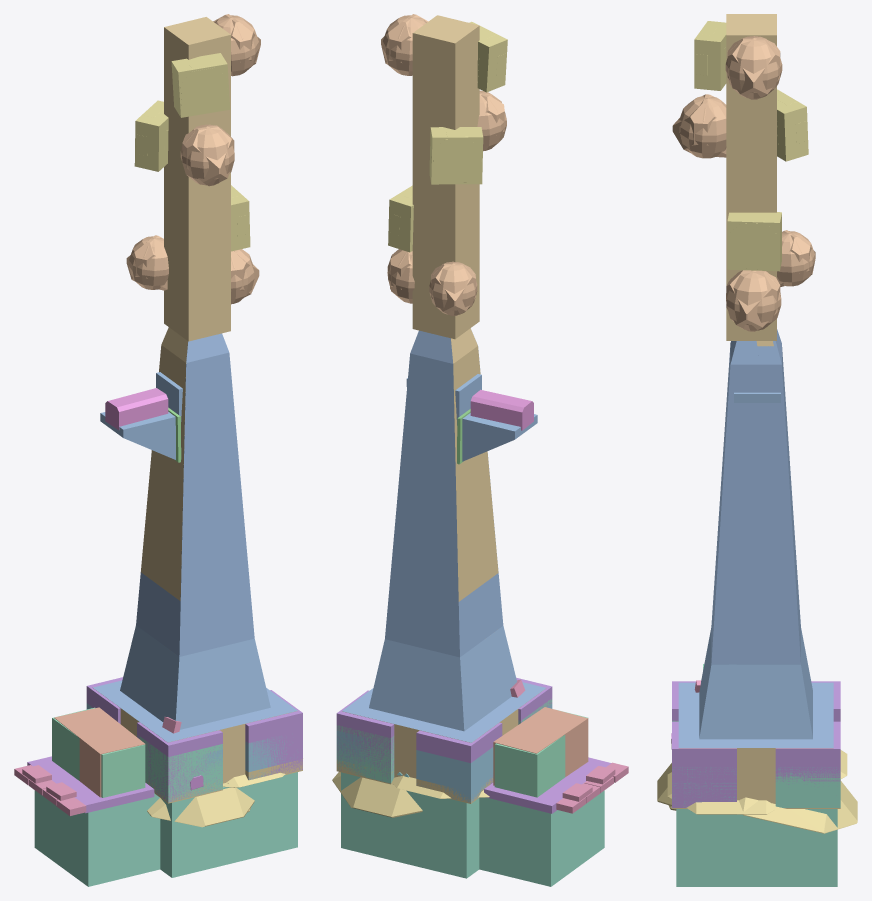
Rendered from hotzonemagnet.glb.
The picture shows the model from 3 angles, left to right: view 1: azimuth 30°, elevation 25°; view 2: azimuth 150°, elevation 25°; view 3: azimuth 270°, elevation 25°; orthographic projection. The views are drawn at different scales.
Visible parts, largest first — view 1: S3|SM_Pylon_4#0, S5|SM_Pylon_5#0, S6|SM_Foundation_HotzoneMagnet#0, S2|SM_Pylon_2#0, S3|SM_HESCO_Stage4_01a#1, S3|SM_CompressorUnit_01a#0, S5|SM_Magnet_Dish#0, S1|SM_TarpBox_03a#0, S3|SM_HESCO_Stage5_01a#0, S4|SM_HESCO_Stage5_01a#3, S5|SM_Satellite_Dish_Residential#0, S2|S_Cement_Rubble_rjgmQ_high#1 (+12 smaller); view 2: S5|SM_Pylon_5#0, S3|SM_Pylon_4#0, S6|SM_Foundation_HotzoneMagnet#0, S2|SM_Pylon_2#0, S1|SM_TarpBox_03a#0, S3|SM_CompressorUnit_01a#0, S5|SM_Magnet_Dish#2, S2|SM_HESCO_Stage3_01a#2, S3|SM_HESCO_Stage4_01a#0, S2|S_Cement_Rubble_rjgmQ_high#0, S4|SM_HESCO_Stage5_01a#1, S5|SM_Satellite_Dish_Residential#3 (+14 smaller); view 3: S3|SM_Pylon_4#0, S6|SM_Foundation_HotzoneMagnet#0, S5|SM_Pylon_5#0, S2|SM_Pylon_2#0, S3|SM_HESCO_Stage5_01a#0, S2|S_Cement_Rubble_rjgmQ_high#0, S5|SM_Magnet_Dish#1, S5|SM_Satellite_Dish_Residential#1, S5|SM_Satellite_Dish_Residential#2, S5|SM_Satellite_Dish_Residential#0, S4|SM_HESCO_Stage5_01a#1, S3|SM_HESCO_Stage4_01a#0 (+5 smaller).
Boxes of the visible parts, x1,y1,x2,y2 form: S3|SM_Pylon_4#0: (93, 333, 297, 742); S5|SM_Pylon_5#0: (93, 17, 295, 783); S6|SM_Foundation_HotzoneMagnet#0: (34, 772, 297, 886); S2|SM_Pylon_2#0: (120, 625, 270, 729); S3|SM_HESCO_Stage4_01a#1: (137, 735, 222, 802); S3|SM_CompressorUnit_01a#0: (52, 707, 145, 797); S5|SM_Magnet_Dish#0: (171, 53, 230, 117); S1|SM_TarpBox_03a#0: (54, 707, 145, 797); S3|SM_HESCO_Stage5_01a#0: (245, 690, 302, 776); S4|SM_HESCO_Stage5_01a#3: (137, 722, 222, 802); S5|SM_Satellite_Dish_Residential#0: (180, 124, 234, 186); S2|S_Cement_Rubble_rjgmQ_high#1: (147, 787, 254, 827); S5|SM_Pylon_5#0: (342, 15, 543, 778); S3|SM_Pylon_4#0: (342, 330, 545, 742); S6|SM_Foundation_HotzoneMagnet#0: (341, 772, 604, 886); S2|SM_Pylon_2#0: (369, 626, 516, 731); S1|SM_TarpBox_03a#0: (493, 707, 588, 785); S3|SM_CompressorUnit_01a#0: (494, 710, 587, 797); S5|SM_Magnet_Dish#2: (429, 127, 483, 184); S2|SM_HESCO_Stage3_01a#2: (416, 747, 493, 802); S3|SM_HESCO_Stage4_01a#0: (336, 725, 394, 783); S2|S_Cement_Rubble_rjgmQ_high#0: (332, 772, 422, 817); S4|SM_HESCO_Stage5_01a#1: (336, 690, 394, 780); S5|SM_Satellite_Dish_Residential#3: (429, 261, 477, 315); S3|SM_Pylon_4#0: (678, 329, 833, 747); S6|SM_Foundation_HotzoneMagnet#0: (676, 809, 837, 886); S5|SM_Pylon_5#0: (679, 14, 833, 803); S2|SM_Pylon_2#0: (699, 628, 812, 739); S3|SM_HESCO_Stage5_01a#0: (672, 721, 736, 807); S2|S_Cement_Rubble_rjgmQ_high#0: (667, 772, 857, 833); S5|SM_Magnet_Dish#1: (727, 212, 781, 271); S5|SM_Satellite_Dish_Residential#1: (725, 36, 782, 99); S5|SM_Satellite_Dish_Residential#2: (726, 270, 781, 331); S5|SM_Satellite_Dish_Residential#0: (672, 94, 726, 158); S4|SM_HESCO_Stage5_01a#1: (775, 721, 840, 786); S3|SM_HESCO_Stage4_01a#0: (775, 769, 840, 807).
Size of the model in its own units: 6.45 by 21.29 by 4.64.
